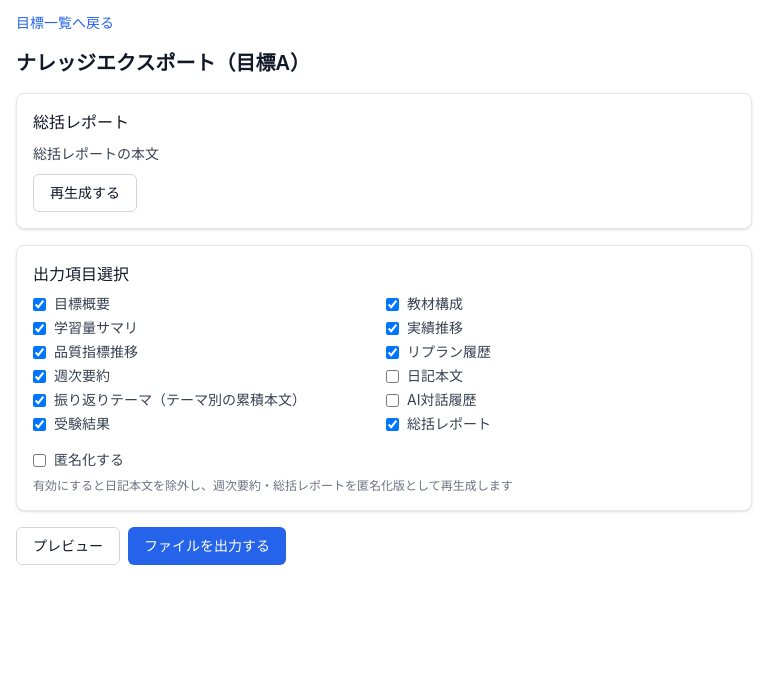
Test: KnowledgeExportPage のプレビューと実行 › shows the previewed markdown
Click the button "プレビュー" at (68, 546), box left=16, top=527, right=120, bottom=565
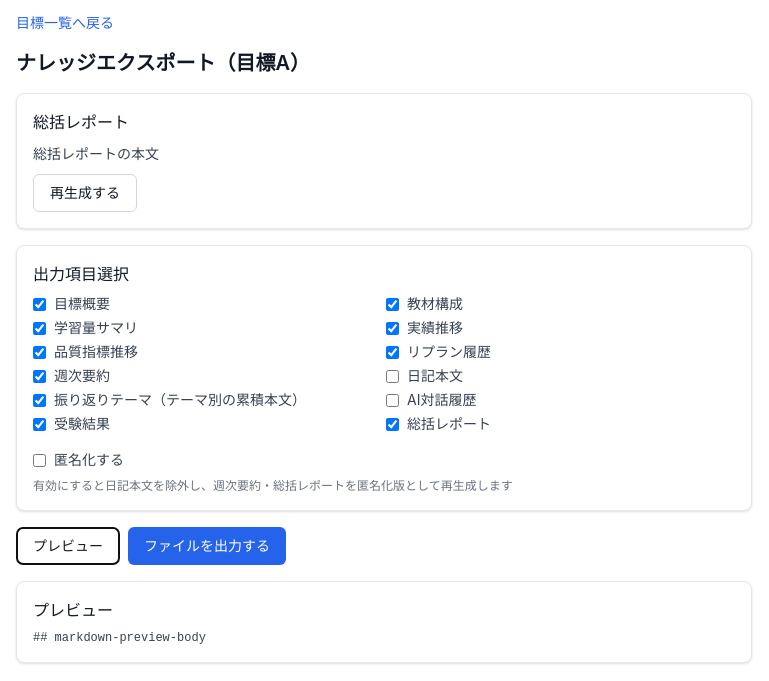
Expected: the heading "プレビュー" is shown, left=33, top=600, right=113, bottom=620
Expected: the text "## markdown-preview-body" is shown, left=33, top=631, right=206, bottom=645
